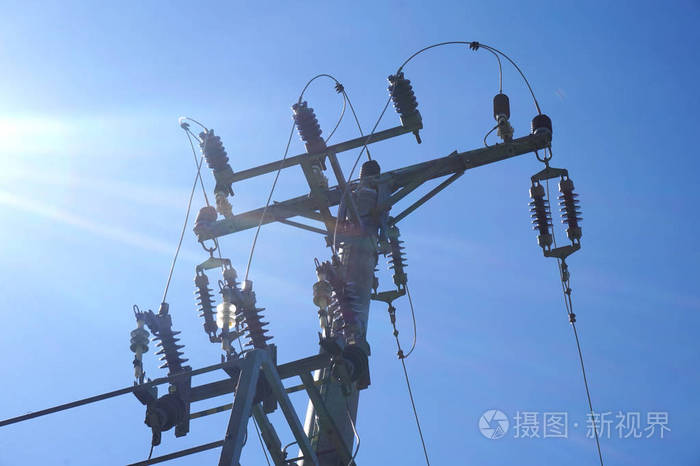insulator: (151, 329, 193, 368), (236, 308, 275, 344), (528, 198, 555, 232), (559, 193, 584, 224), (195, 286, 218, 318), (386, 239, 408, 272)
